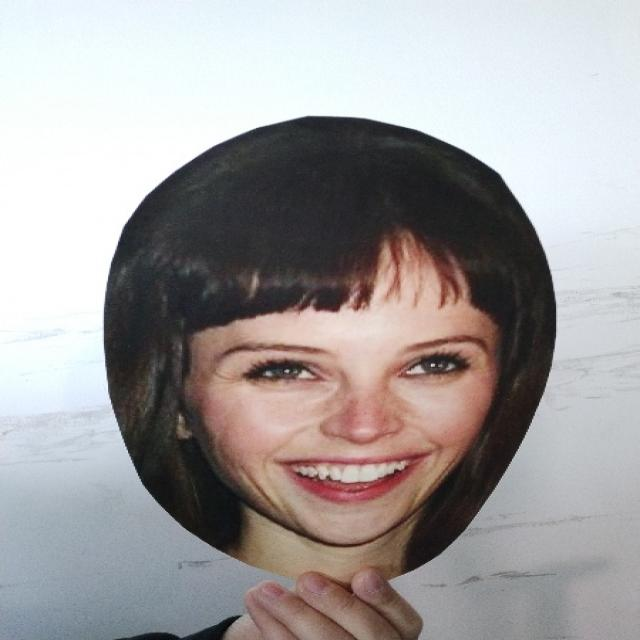photo: (98, 111, 570, 598)
